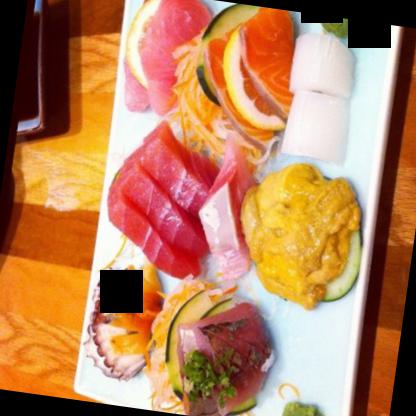salmon: (230, 5, 311, 118)
tuna: (89, 123, 241, 278)
